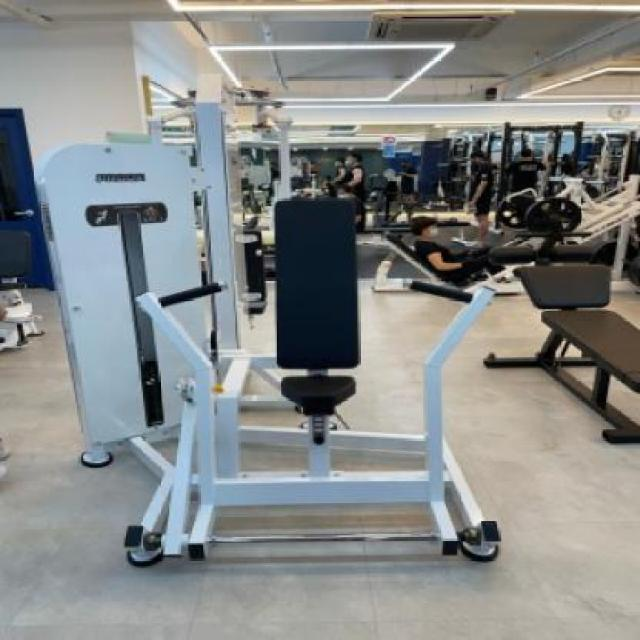Chest Press machine: (32, 93, 550, 584)
